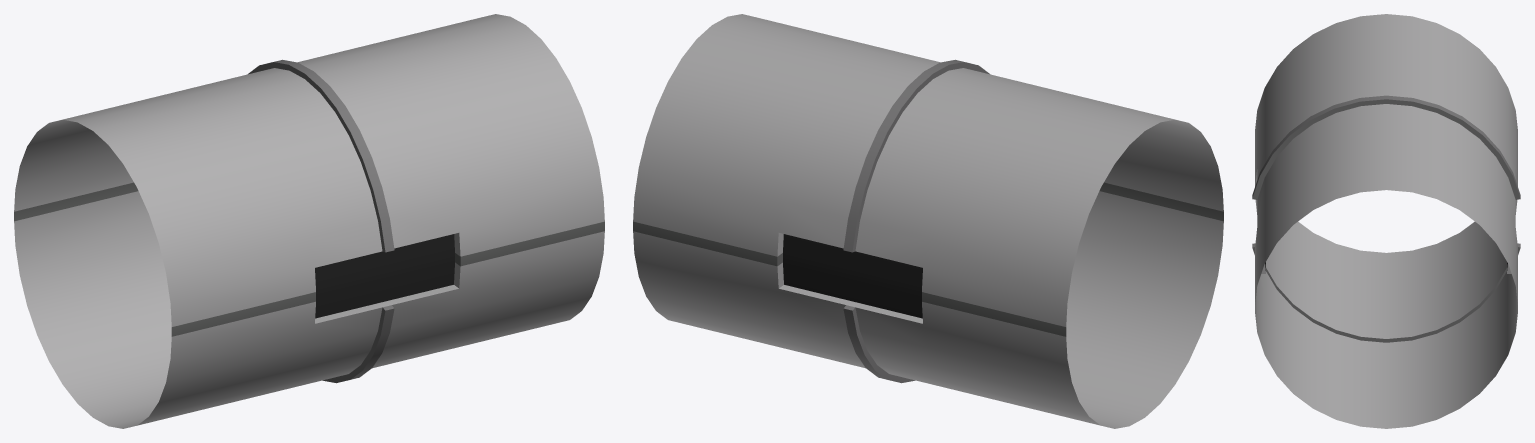
Rendered from Connector.obj.
The picture shows the model from 3 angles, left to right: view 1: azimuth 30°, elevation 25°; view 2: azimuth 150°, elevation 25°; view 3: azimuth 270°, elevation 25°; orthographic projection. The views are drawn at different scales.
Visible parts, largest first — view 1: Connector; view 2: Connector; view 3: Connector.
Part boxes in pixels (x1,y1,x2,y2): Connector: [14, 14, 604, 428]; Connector: [633, 14, 1223, 428]; Connector: [1252, 14, 1520, 428].
Size of the model in its own units: 3.37 by 2.21 by 2.17.
